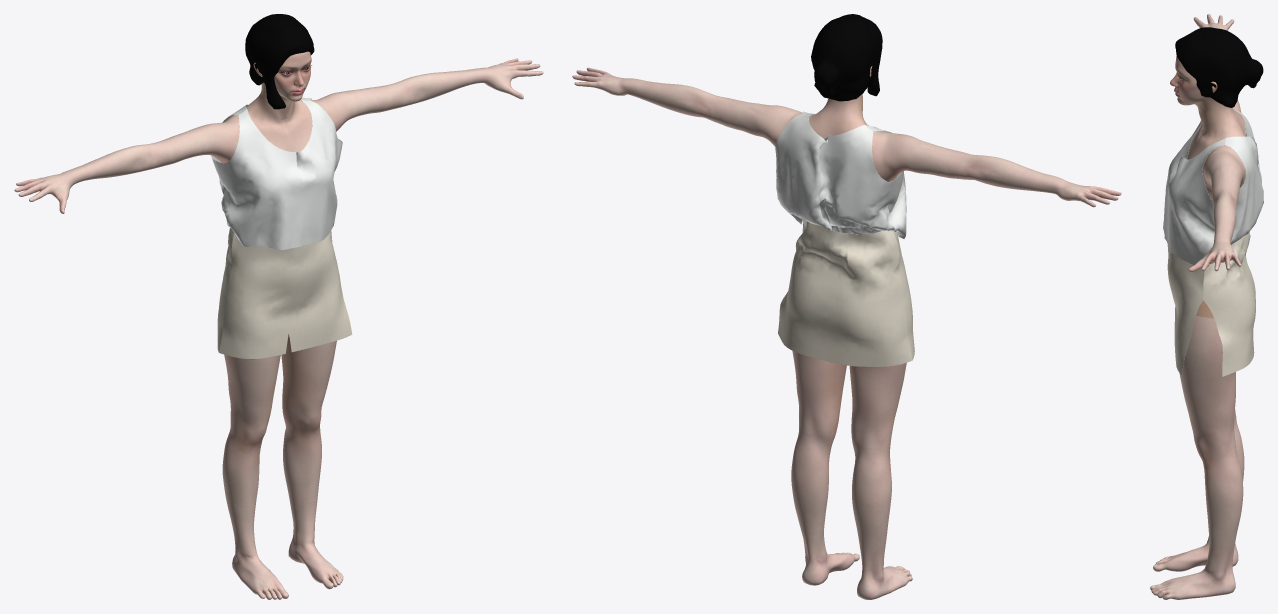
Rendered from random.obj.
3 renders of one model, left to right at view 1: azimuth 30°, elevation 25°; view 2: azimuth 150°, elevation 25°; view 3: azimuth 270°, elevation 25°, orthographic. The views are drawn at different scales.
Size of the model in its own units: 1744 by 1763 by 330.
